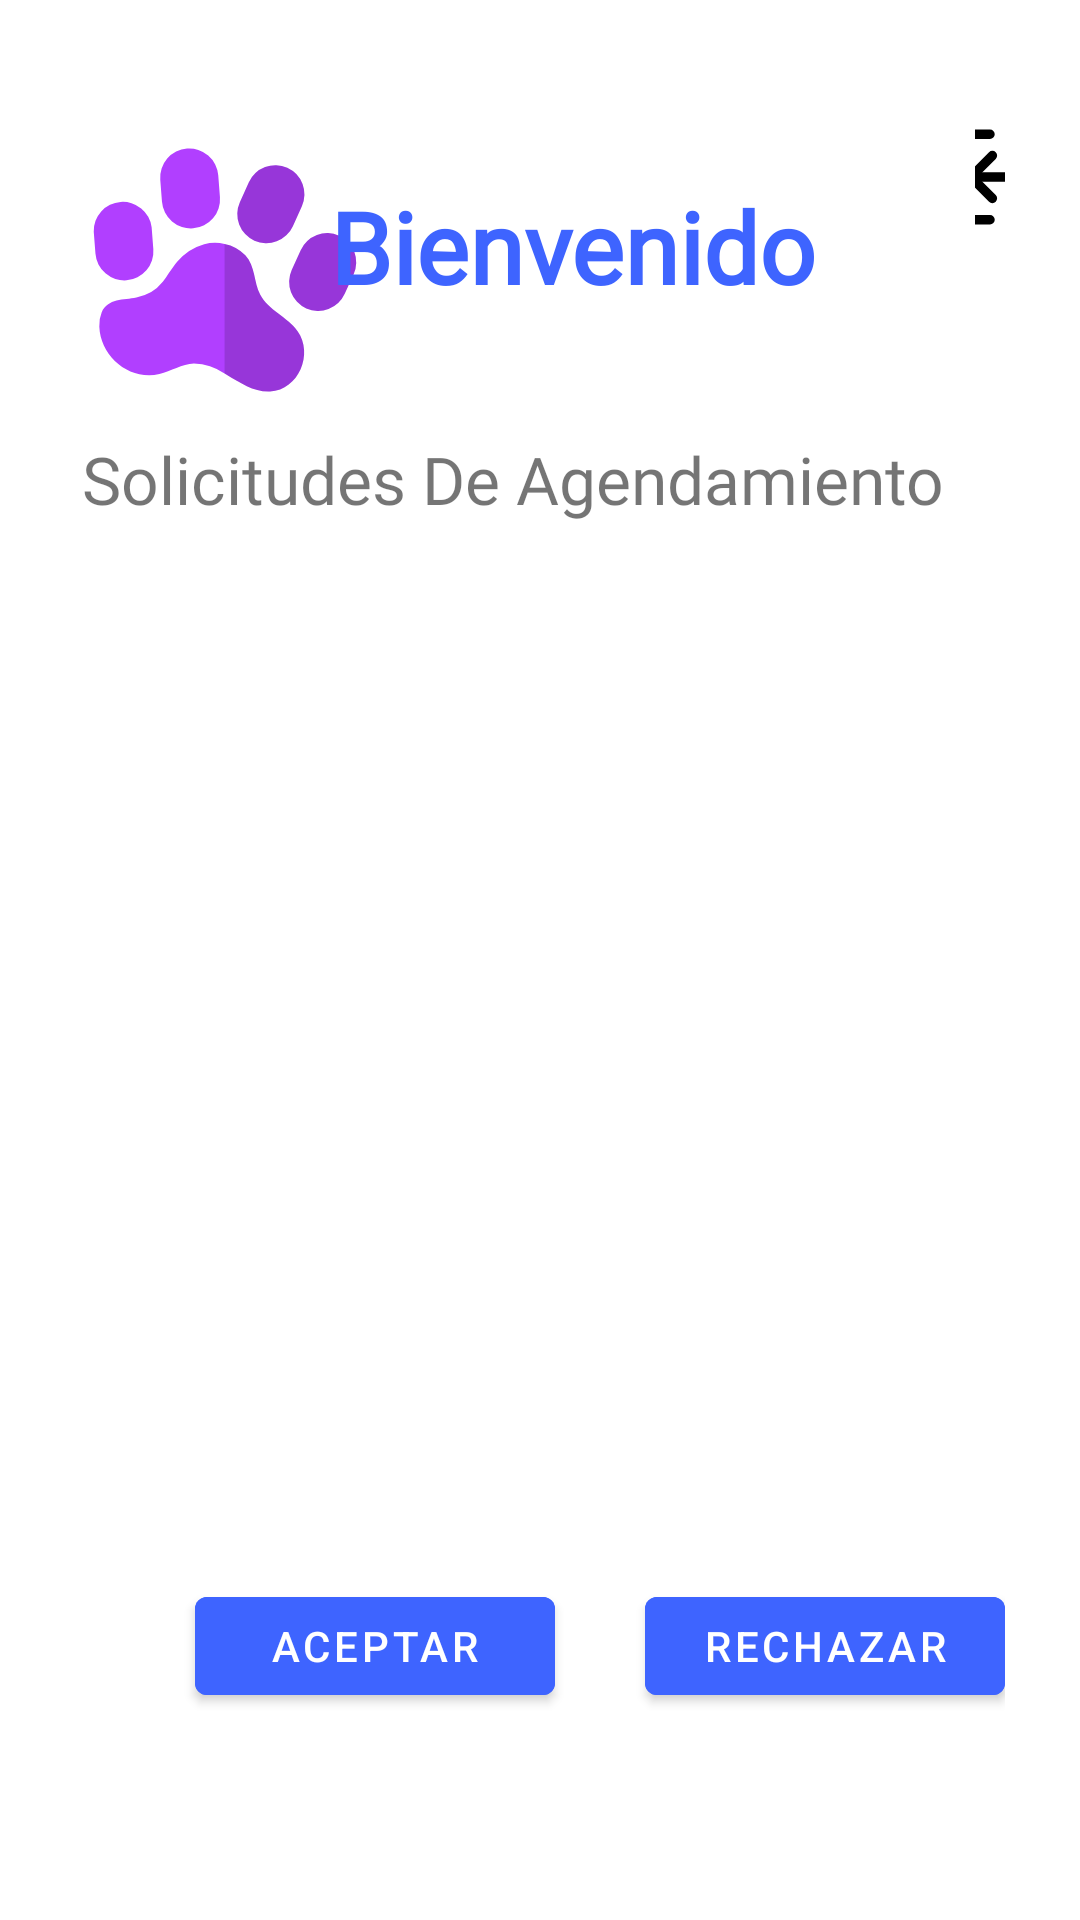

Icon bounding boxes for this 1080 × 1920 phone screenshot, format bbox=[x1, y1, x2, y2]:
login: bbox=[975, 129, 1005, 225]
paw print animal: bbox=[93, 148, 305, 392]
